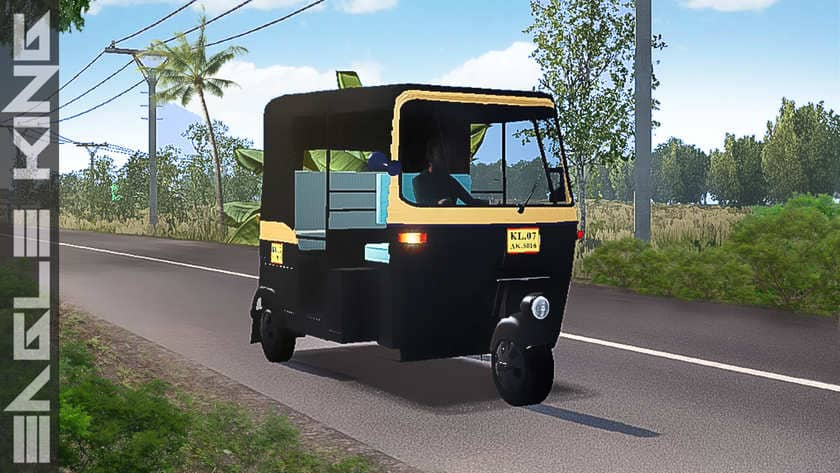rickshaw: (252, 73, 584, 420)
